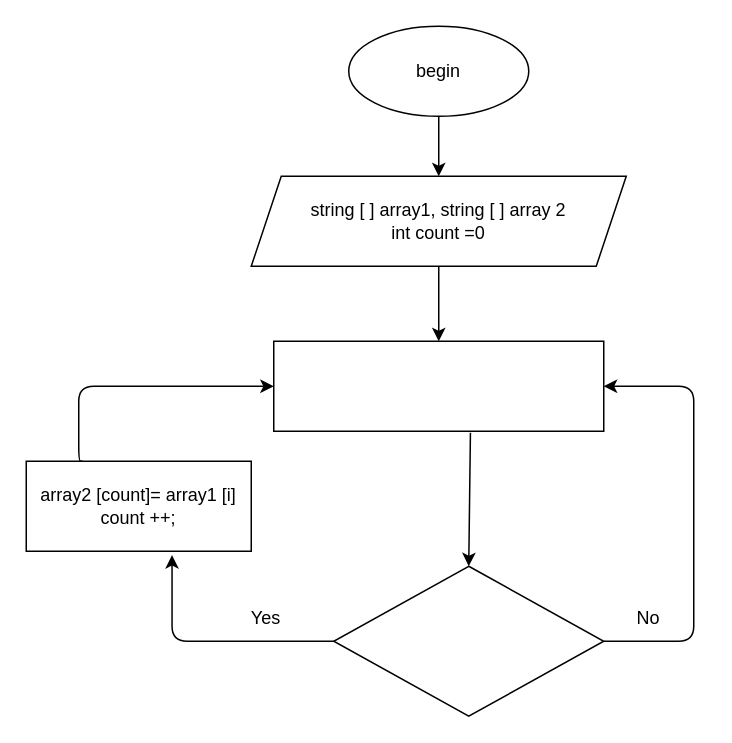
Some shapes in this 732 by 743 pixel diagram are drawn without their labels. Here are the shapes that lost their labels. From the top down, the centre of each, then its label:
At point 438,385: "for int i=0; i< array1.Length; i++".
At point 468,640: "if array1 [ ].Length <=3".
